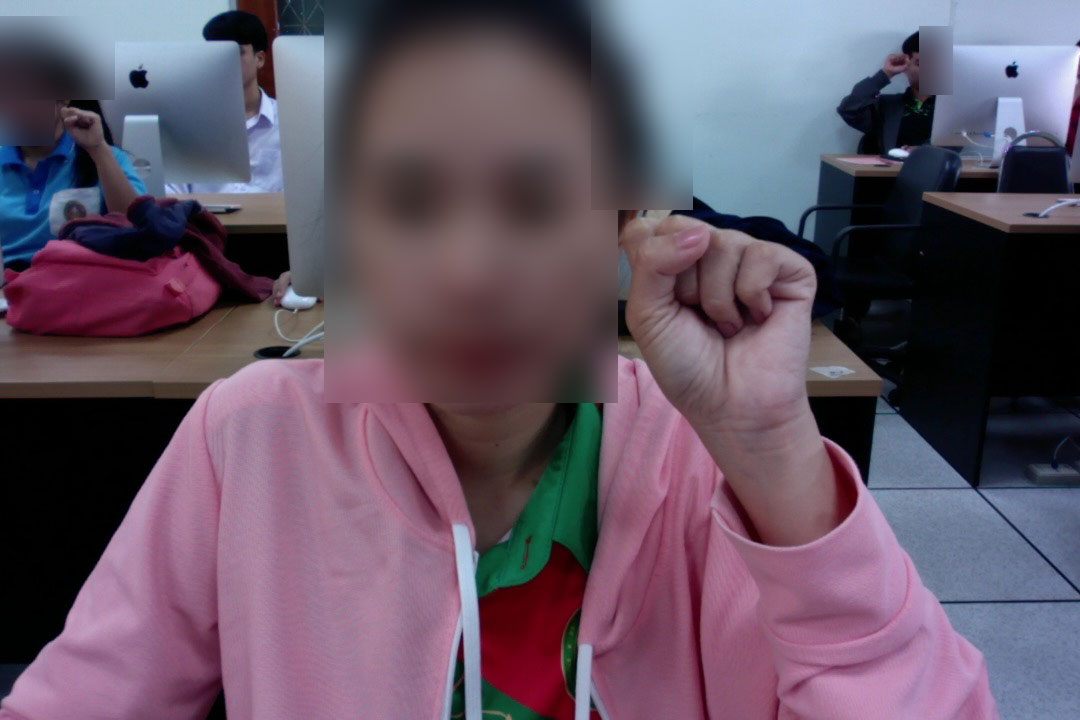sor: (612, 207, 825, 475)
